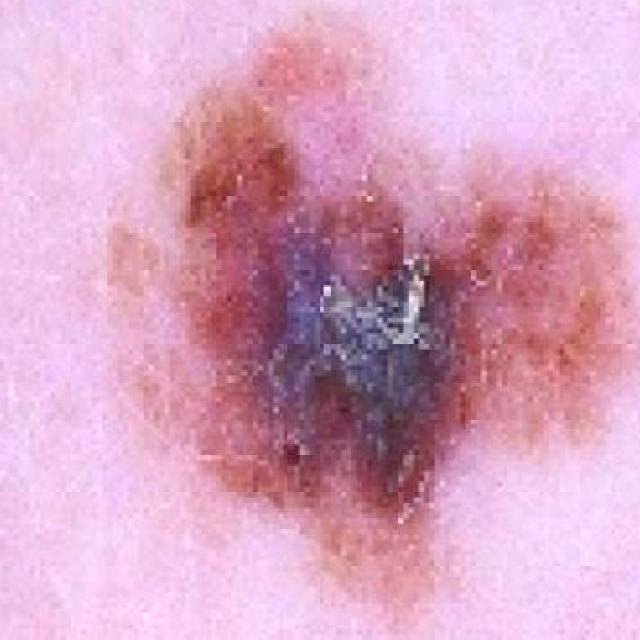MEL: (116, 0, 639, 634)
